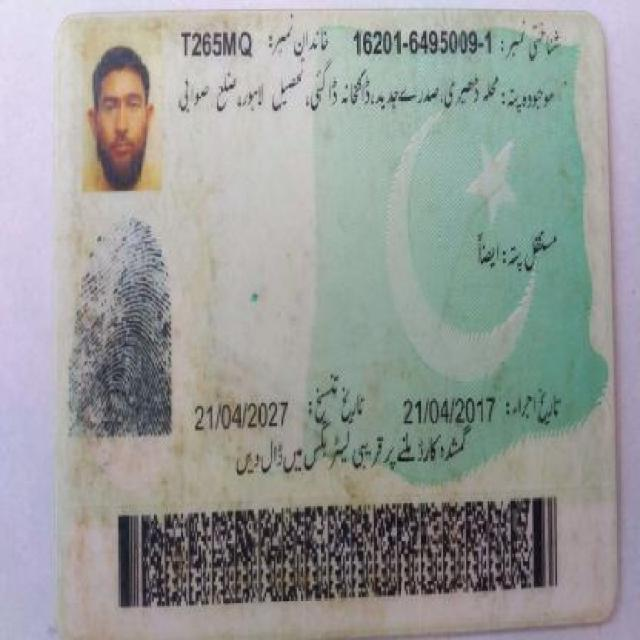Back: (38, 4, 620, 622)
